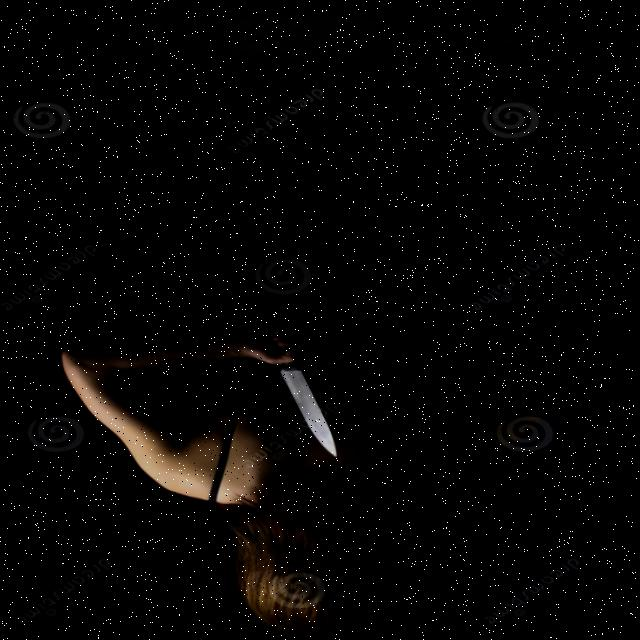knife: (279, 356, 344, 454)
